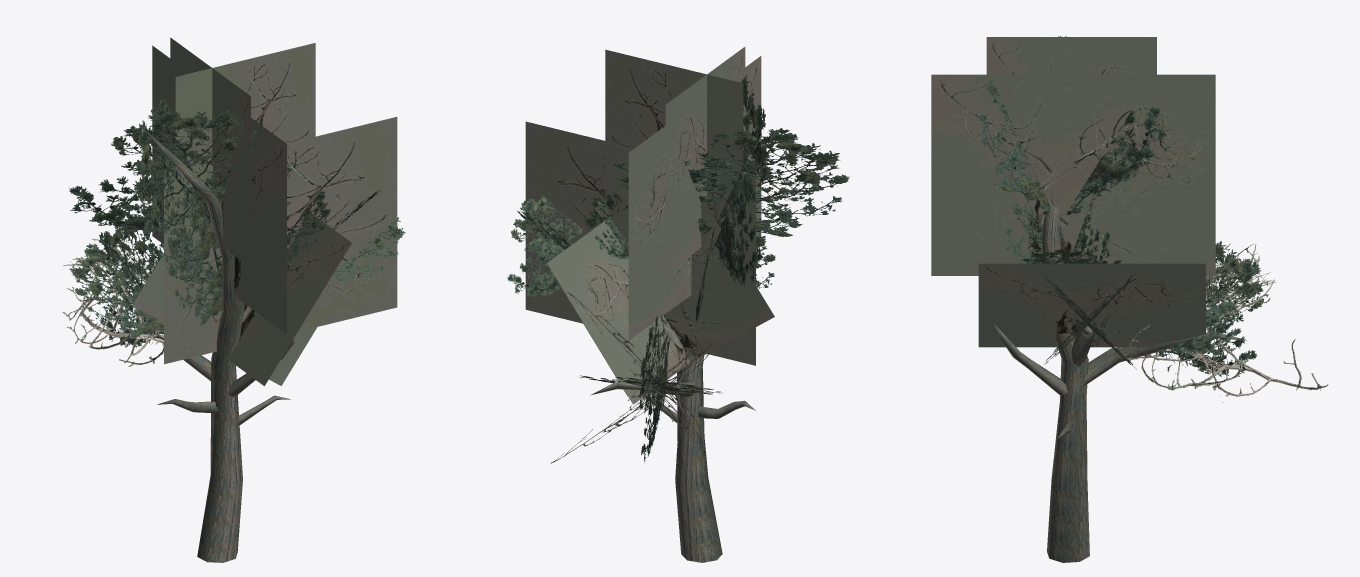
The model's file is ever_torreypinetree_a2_l0.fbx.
The picture shows the model from 3 angles, left to right: view 1: azimuth 30°, elevation 25°; view 2: azimuth 150°, elevation 25°; view 3: azimuth 270°, elevation 25°; orthographic projection. The views are drawn at different scales.
Visible parts, largest first — view 1: mesh_node; view 2: mesh_node; view 3: mesh_node.
Part boxes in pixels (left/top/right/bottom): mesh_node: left=62, top=37, right=405, bottom=562; mesh_node: left=507, top=47, right=849, bottom=562; mesh_node: left=931, top=36, right=1328, bottom=562.
Bounding box in the file's own units: 3.95 × 5.37 × 3.73.
